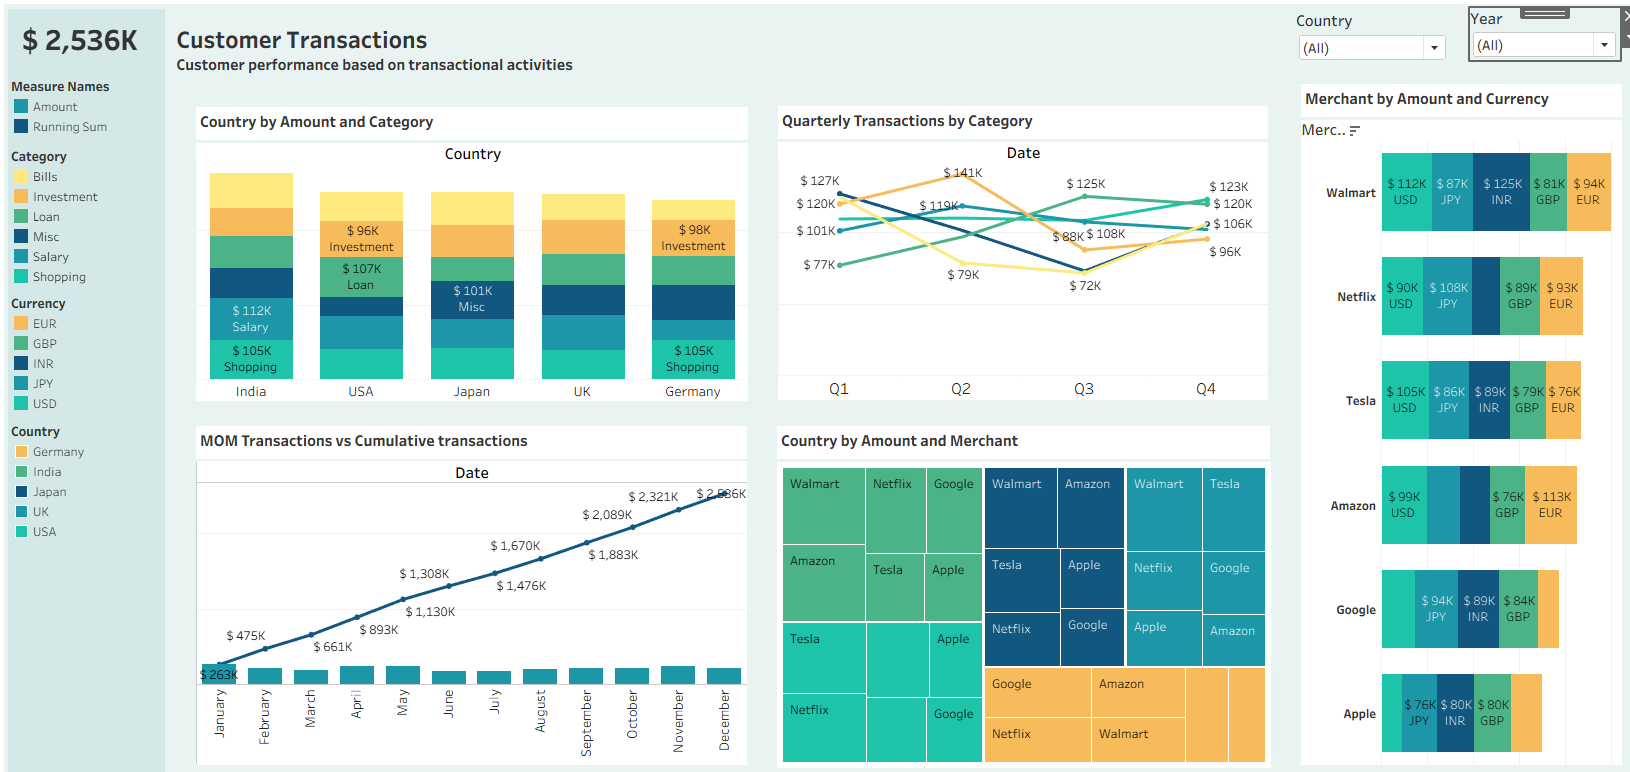

The page's visual inventory and layout, read from the dashboard file:
{"tool":"tableau","page":{"name":"Customer Transactions","canvas":[1000,1000],"units":"permille","ordinal":1},"visuals":[{"type":"title","box":[119.4,10,875.8,89.9]},{"type":"filter","title":"MOM Transactions by Category","param":"[federated.09e6woe1ce81t11dsvwye050l9es].[yr:Date:ok]","box":[886.1,17.5,104.3,76.2]},{"type":"worksheet","title":"Total Transactions","mark":"Automatic","box":[9,18.7,104.9,114.9]},{"type":"filter","title":"MOM Transactions by Category","param":"[federated.09e6woe1ce81t11dsvwye050l9es].[none:Country:nk]","box":[779.4,20,101.3,61.2]},{"type":"worksheet","title":"Country by Amount and Category","mark":"Bar","rows":["Amount"],"cols":["Country"],"box":[119.4,99.9,314.7,439.4]},{"type":"worksheet","title":"MOM Transactions vs Cumulative transactions","mark":"Bar","rows":["Amount","Amount"],"cols":["Date"],"box":[434,99.9,361.7,439.4]},{"type":"worksheet","title":"Merchant by Amount and Currency","mark":"Bar","rows":["Merchant"],"cols":["Amount"],"box":[795.6,99.9,199.5,890.1]},{"type":"legend","title":"MOM Transactions vs Cumulative transactions","param":"[federated.09e6woe1ce81t11dsvwye050l9es].[:Measure Names]","box":[10.8,146.1,101.3,86.1]},{"type":"legend","title":"Merchant by Amount and Currency","param":"[federated.09e6woe1ce81t11dsvwye050l9es].[none:Currency:nk]","box":[9.6,238.5,103.7,158.6]},{"type":"legend","title":"MOM Transactions by Category","param":"[federated.09e6woe1ce81t11dsvwye050l9es].[none:Category:nk]","box":[10.2,408.2,103.7,184.8]},{"type":"worksheet","title":"MOM Transactions by Category","mark":"Line","rows":["Amount"],"cols":["Date"],"box":[119.4,539.3,380.4,450.7]},{"type":"worksheet","title":"Country by Amount and Merchant","mark":"Automatic","box":[499.7,539.3,295.9,450.7]},{"type":"legend","title":"Country by Amount and Merchant","param":"[federated.09e6woe1ce81t11dsvwye050l9es].[none:Country:nk]","box":[10.8,605.5,103.1,158.6]}]}

Visuals, with their boxes on the dashboard's canvas, which has no fixed pixel size, in thousandths of its width and height (x1, y1, x2, y2). These are canvas units, not pixel positions in the 1630x772 screenshot, which may show the page scaled, cropped or inside an application window:
title: rect(119, 10, 995, 100)
"MOM Transactions by Category" filter: rect(886, 18, 990, 94)
"Total Transactions" worksheet: rect(9, 19, 114, 134)
"MOM Transactions by Category" filter: rect(779, 20, 881, 81)
"Country by Amount and Category" worksheet (Bar marks): rect(119, 100, 434, 539)
"MOM Transactions vs Cumulative transactions" worksheet (Bar marks): rect(434, 100, 796, 539)
"Merchant by Amount and Currency" worksheet (Bar marks): rect(796, 100, 995, 990)
"MOM Transactions vs Cumulative transactions" legend: rect(11, 146, 112, 232)
"Merchant by Amount and Currency" legend: rect(10, 238, 113, 397)
"MOM Transactions by Category" legend: rect(10, 408, 114, 593)
"MOM Transactions by Category" worksheet (Line marks): rect(119, 539, 500, 990)
"Country by Amount and Merchant" worksheet: rect(500, 539, 796, 990)
"Country by Amount and Merchant" legend: rect(11, 606, 114, 764)
